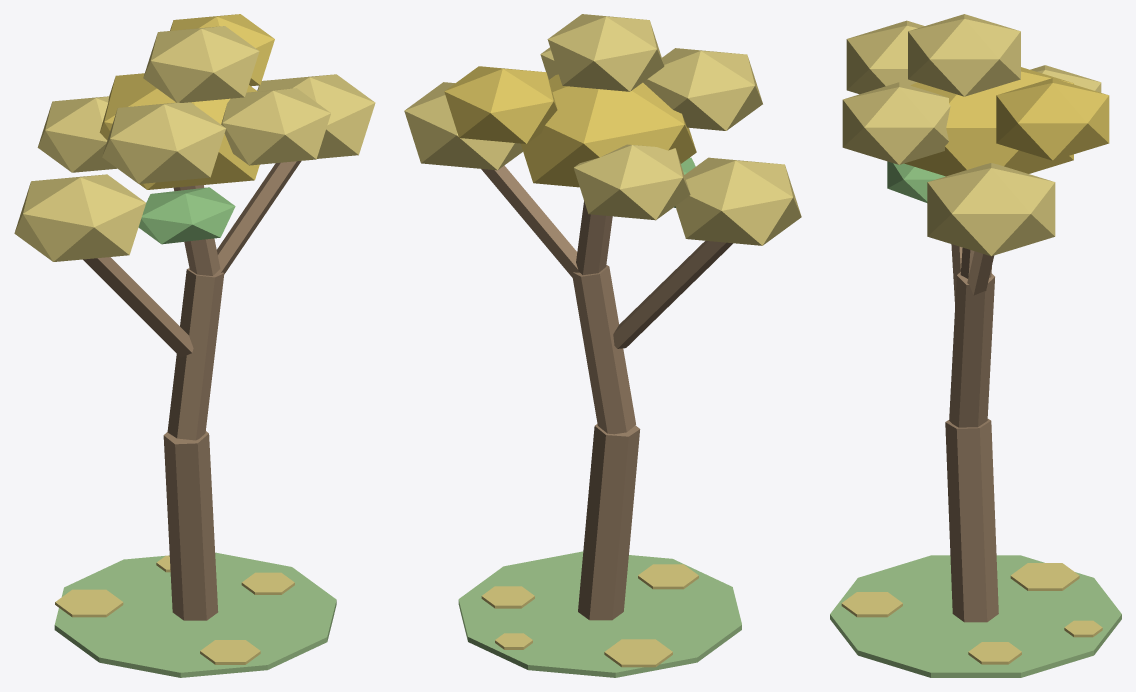
The model's file is vegetacao__ipe_amarelo.glb.
3 renders of one model, left to right at view 1: azimuth 30°, elevation 25°; view 2: azimuth 150°, elevation 25°; view 3: azimuth 270°, elevation 25°, orthographic.
Visible parts, largest first — view 1: vegetacao__ipe_amarelo; view 2: vegetacao__ipe_amarelo; view 3: vegetacao__ipe_amarelo.
Part boxes in pixels (x1,y1,x2,y2): vegetacao__ipe_amarelo: [14, 14, 375, 677]; vegetacao__ipe_amarelo: [404, 14, 801, 677]; vegetacao__ipe_amarelo: [830, 14, 1121, 677].
Bounding box in the file's own units: 1.1 × 1.73 × 0.76.
